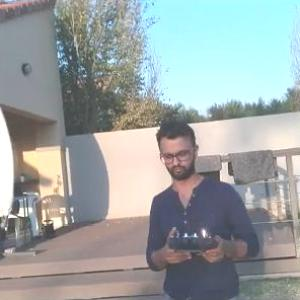follow: (142, 110, 268, 299)
